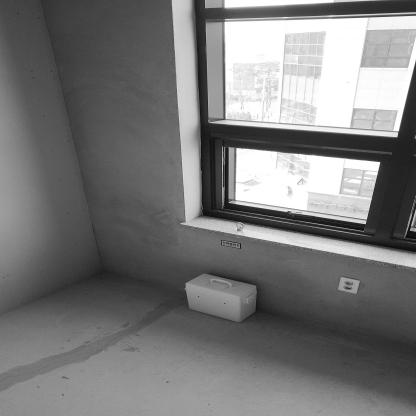DDL: (187, 273, 258, 322)
